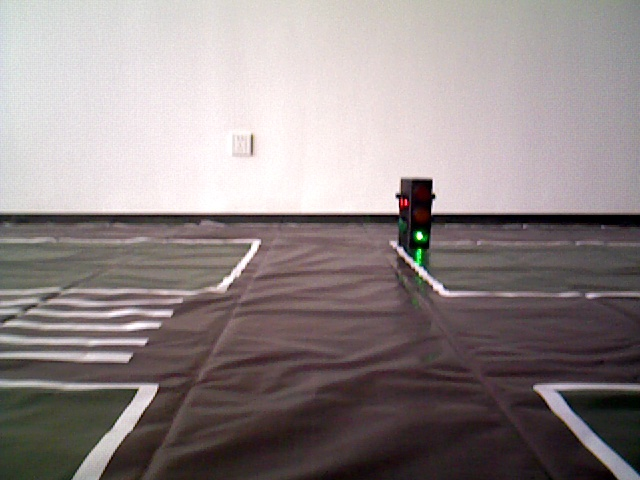green: (399, 178, 431, 247)
